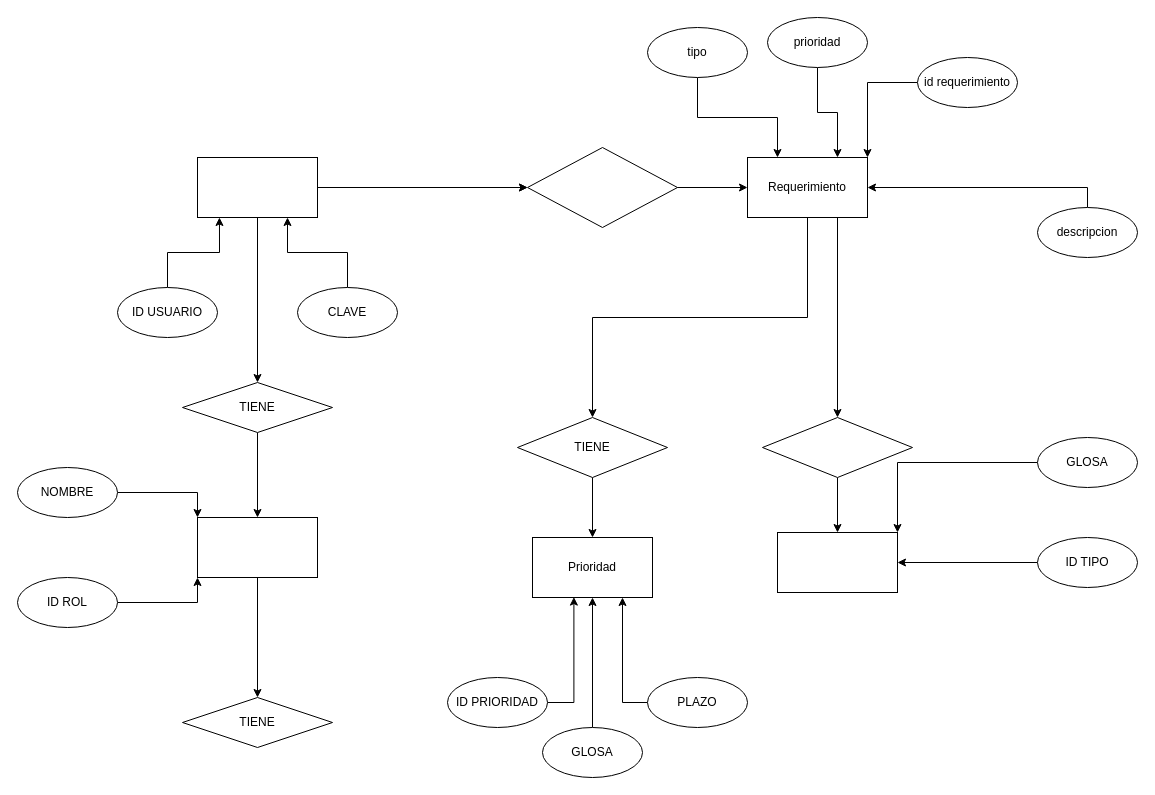
Image size: 1155x795. Some labels were removed from this diagram. The shapes that lost their labels are listed below. From the top down, each one's box as (x1, y1, x2, y2) in pixels, then its label:
(196, 156, 318, 218): USUARIO
(526, 146, 678, 228): Realiza 1:N
(762, 416, 912, 478): TIENE 1:1
(776, 532, 898, 592): TIPO-REQUERIMIENTOS
